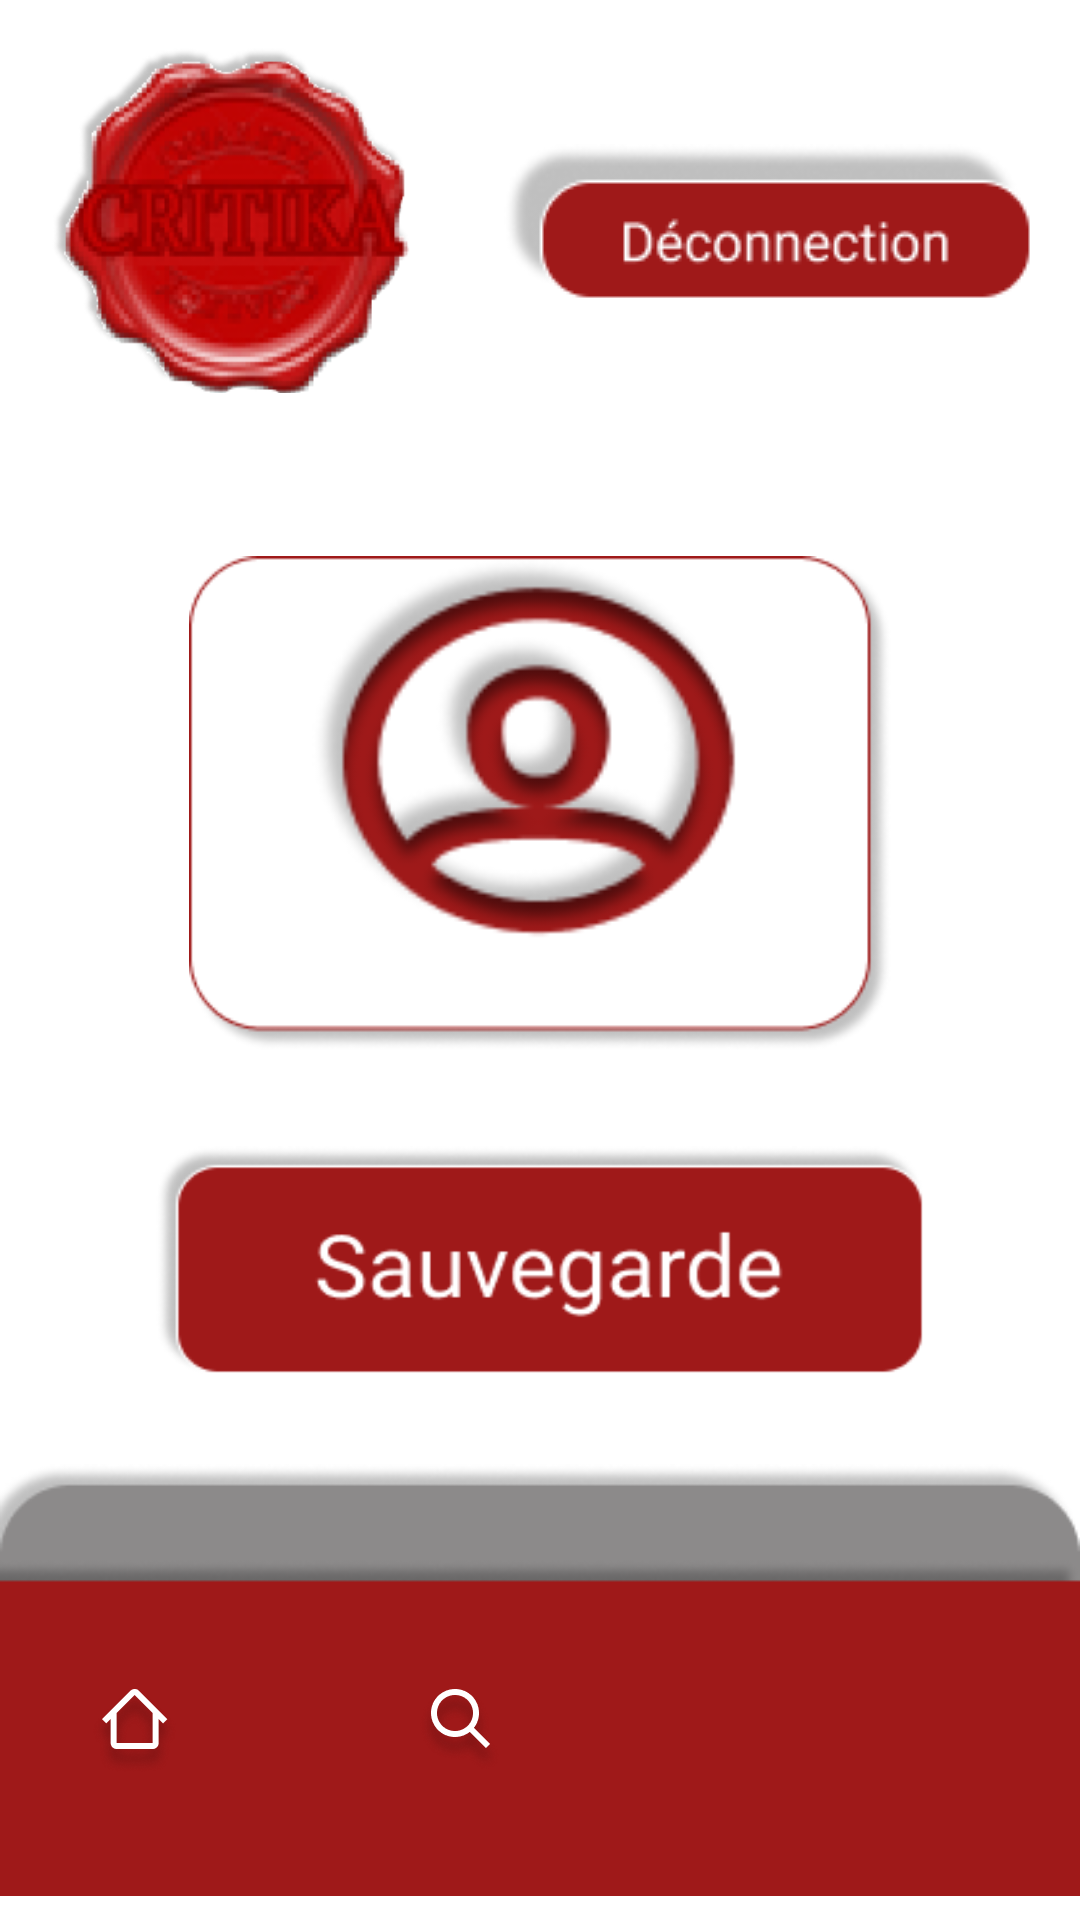

Icons on this 1080px x 1920px Android screen, each with its box as (x1, y1, x2, y2):
home: (102, 1689, 168, 1749)
search: (431, 1689, 490, 1748)
